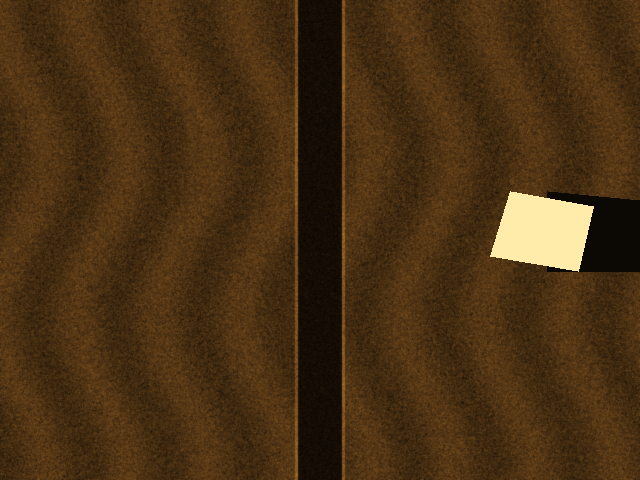Unknown Anomaly: (490, 191, 593, 271)
